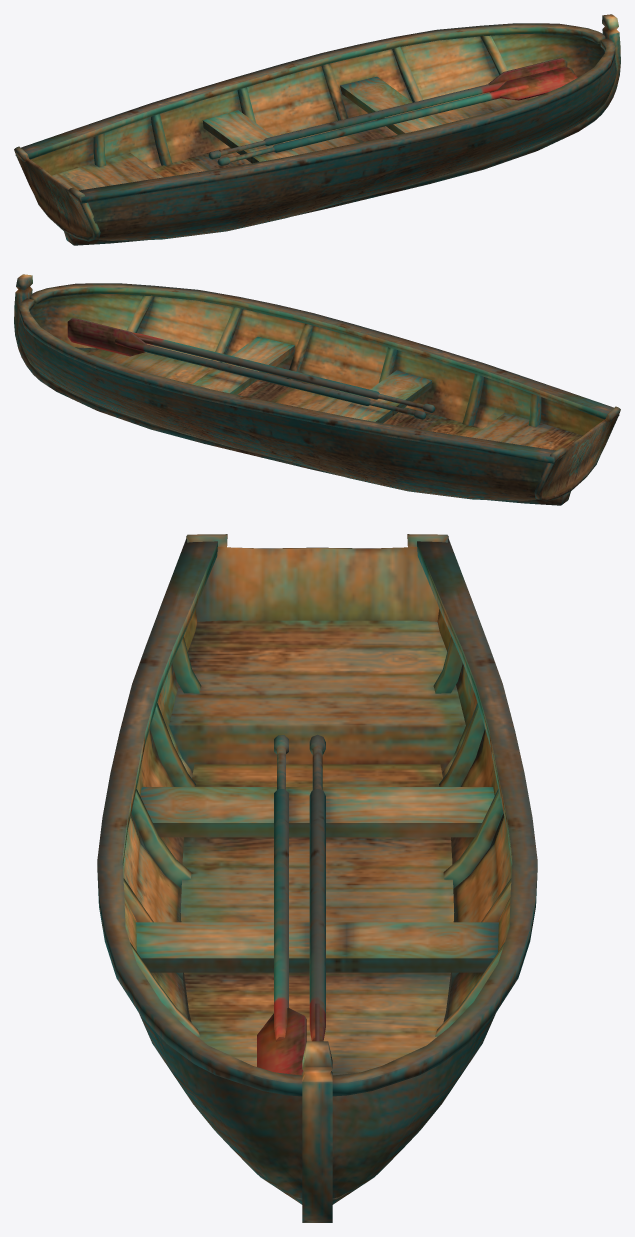
The model's file is boat.glb.
The picture shows the model from 3 angles, top to bottom: view 1: azimuth 30°, elevation 25°; view 2: azimuth 150°, elevation 25°; view 3: azimuth 270°, elevation 25°; orthographic projection. The views are drawn at different scales.
Visible parts, largest first — view 1: boat; view 2: boat; view 3: boat.
Part boxes in pixels (bbox=[...]): boat: bbox=[14, 14, 620, 245]; boat: bbox=[14, 274, 620, 505]; boat: bbox=[97, 534, 537, 1222].
Bounding box in the file's own units: 4.19 × 0.8427 × 1.4.
Materials: 1 (1 with a texture image).
